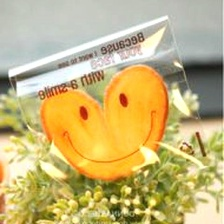snack: (2, 7, 220, 209)
